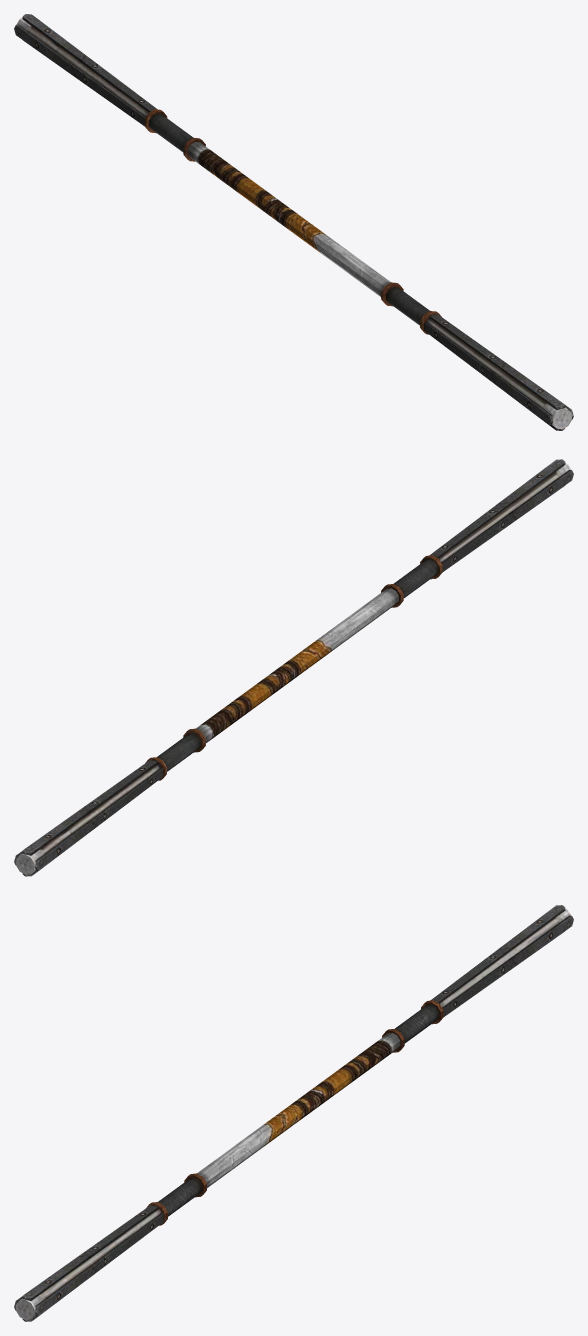
3 renders of one model, top to bottom at view 1: azimuth 30°, elevation 25°; view 2: azimuth 150°, elevation 25°; view 3: azimuth 330°, elevation 25°, orthographic.
Parts seen in each view (by area): view 1: bo; view 2: bo; view 3: bo.
Boxes of the visible parts, x1,y1,x2,y2 form: bo: [14, 14, 573, 430]; bo: [14, 459, 573, 876]; bo: [14, 905, 573, 1321].
Size of the model in its own units: 0.0659 by 0.0662 by 2.7.
1 material, 1 textured.
